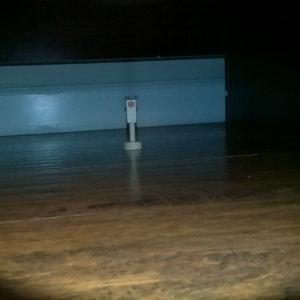traffic light red: (121, 92, 143, 151)
